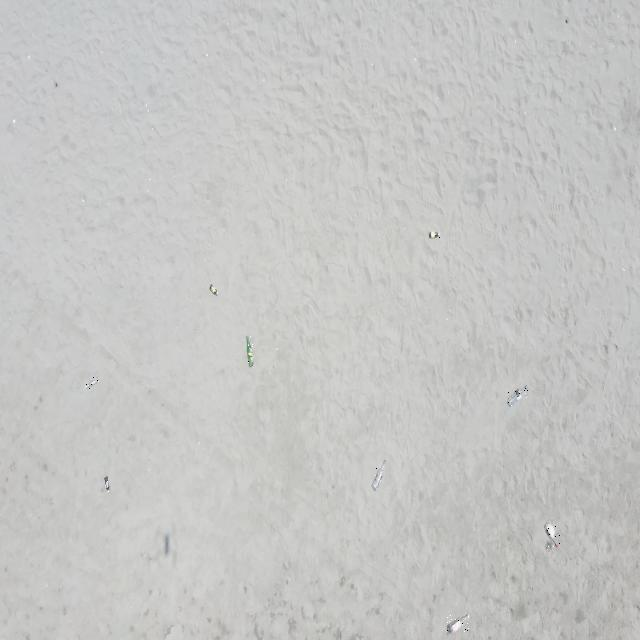glass: (447, 614, 470, 634), (508, 386, 528, 407), (373, 460, 388, 488), (546, 522, 560, 548), (246, 335, 254, 367), (86, 377, 100, 389), (209, 284, 219, 296), (104, 476, 110, 494), (429, 232, 440, 239)
